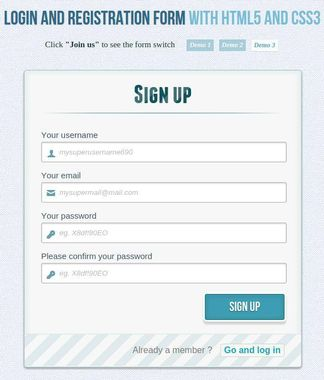_form_: (1, 1, 324, 380)
button: (202, 292, 286, 322), (219, 343, 285, 358)
field_with_label: (38, 131, 291, 166), (37, 252, 289, 287), (37, 212, 290, 246), (38, 172, 290, 206)
select: (39, 220, 288, 245), (40, 140, 289, 164), (39, 180, 288, 204), (39, 262, 287, 285)
